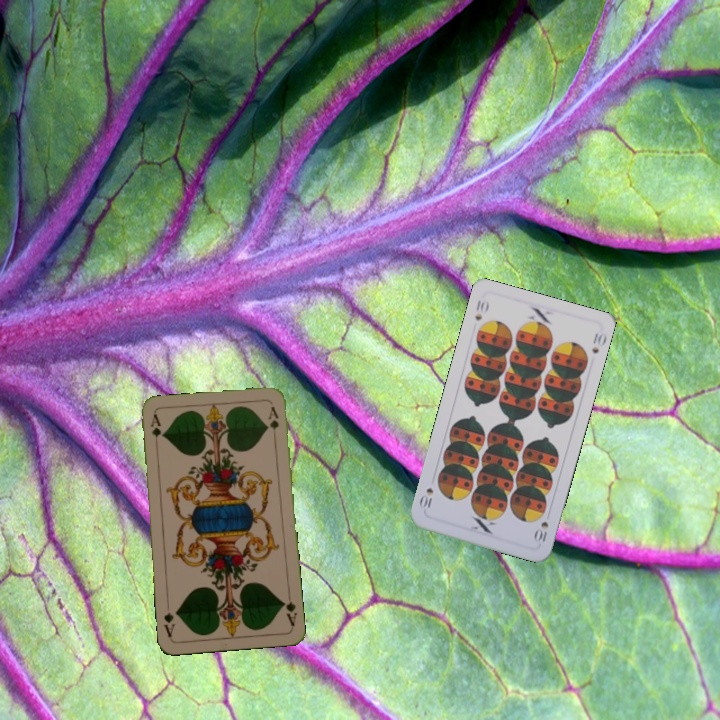GA: (279, 589, 299, 628), (146, 411, 163, 451)
S10: (530, 517, 551, 546), (471, 296, 491, 324)
